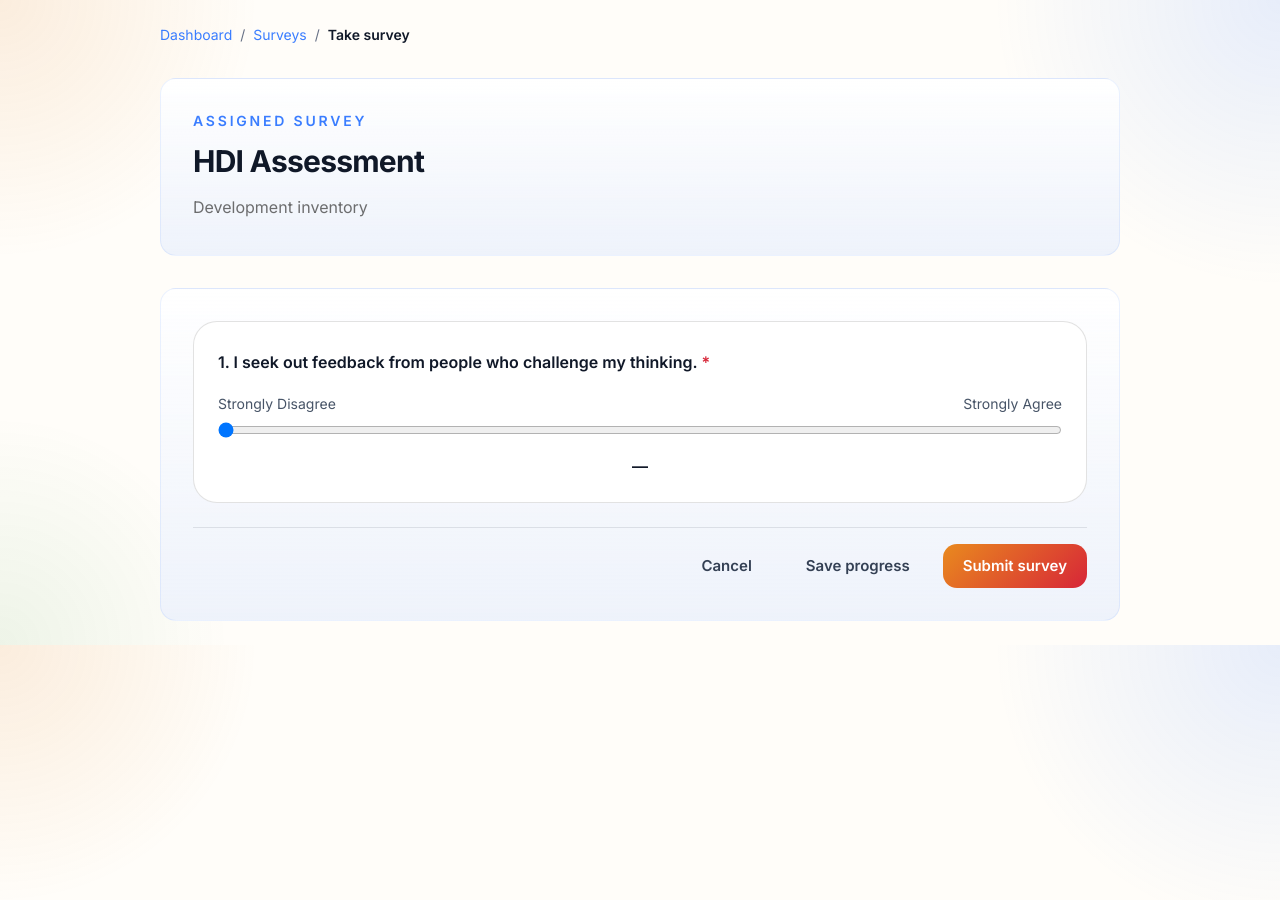
ClientSurveyTake › renders scale endpoint labels and a visible value readout for likert-scale questions
Expected: the text "Strongly Disagree" is shown, [218, 394, 336, 414]
Expected: the text "Strongly Agree" is shown, [963, 394, 1062, 414]
Set the slider to "4" at (847,430), box [218, 422, 1062, 438]
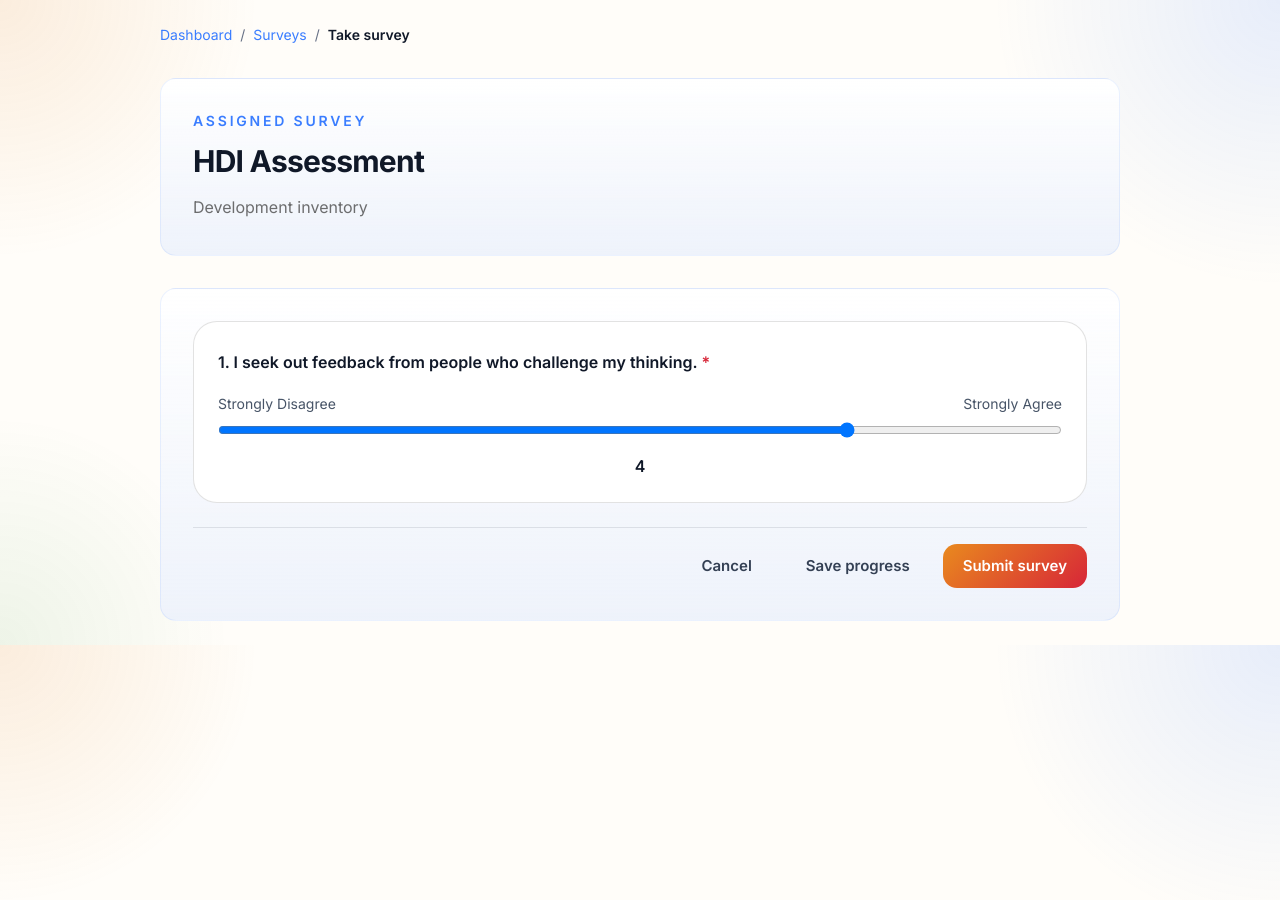
Expected: the text "4" is shown, [635, 456, 645, 476]
